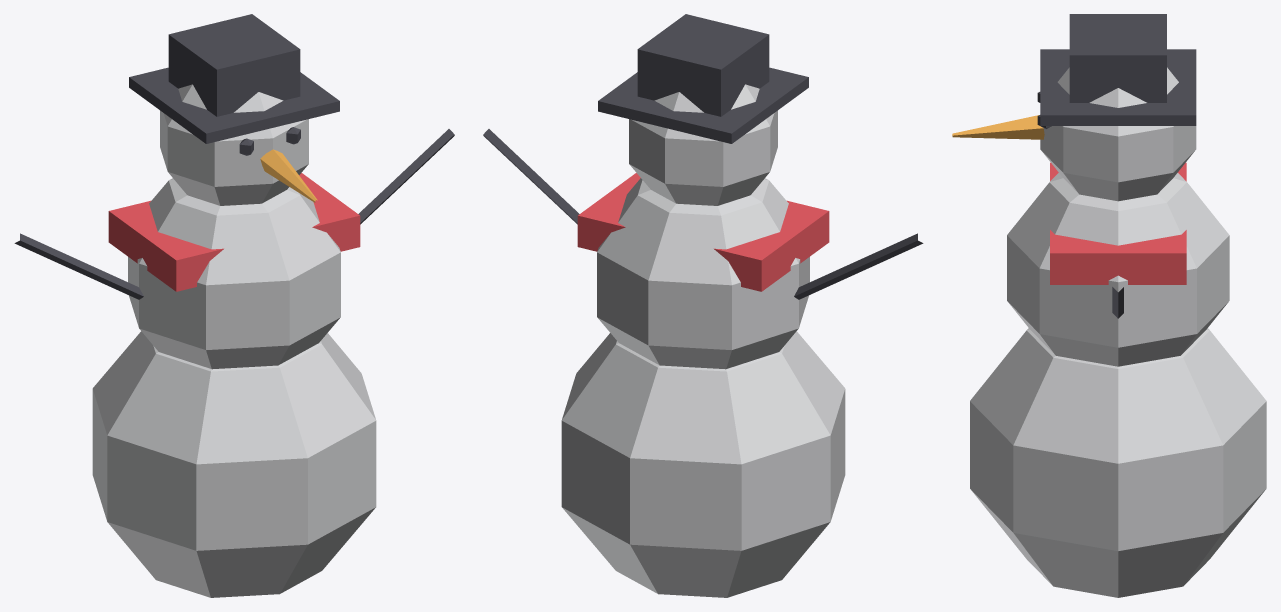
The model's file is happogahara_snowman.glb.
3 renders of one model, left to right at view 1: azimuth 30°, elevation 25°; view 2: azimuth 150°, elevation 25°; view 3: azimuth 270°, elevation 25°, orthographic.
Visible parts, largest first — view 1: happogahara_snowman; view 2: happogahara_snowman; view 3: happogahara_snowman.
Part boxes in pixels (x1,y1,x2,y2): happogahara_snowman: (14,14,454,597); happogahara_snowman: (483,14,923,597); happogahara_snowman: (952,14,1266,597).
Size of the model in its own units: 2.63 by 3.12 by 1.61.
